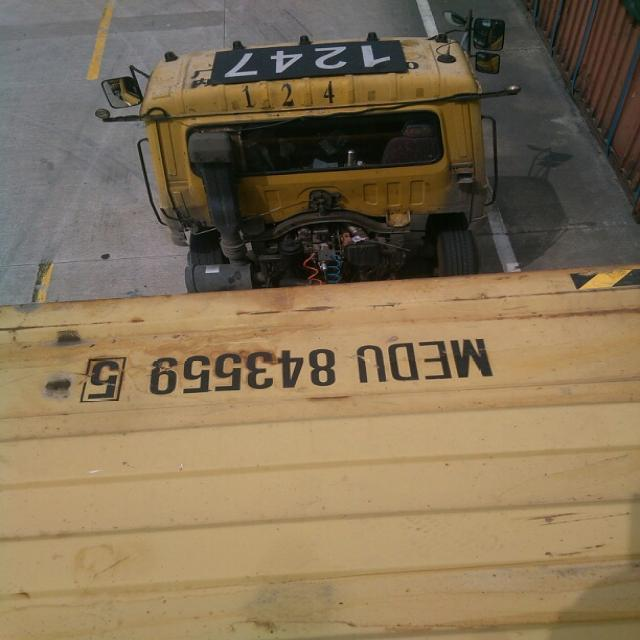rust: (444, 287, 640, 303), (479, 307, 640, 322), (235, 304, 342, 323), (42, 374, 79, 406), (52, 327, 91, 354), (301, 391, 358, 407)
